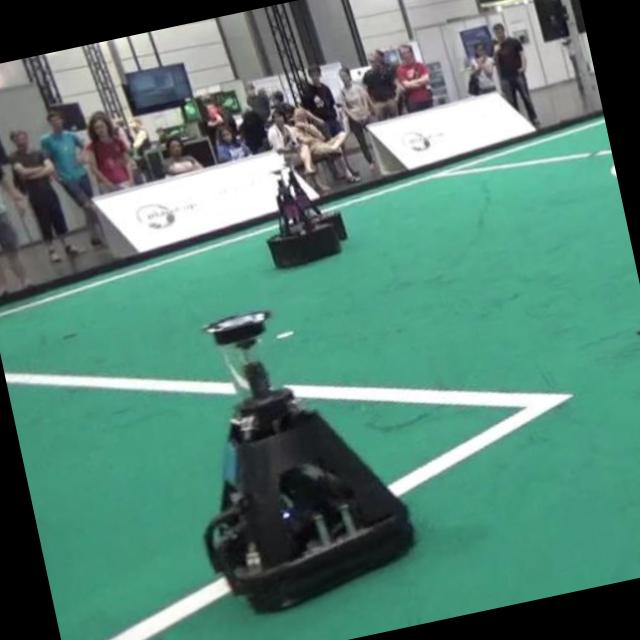robot: (204, 310, 413, 609), (267, 179, 339, 268), (288, 168, 346, 238)
